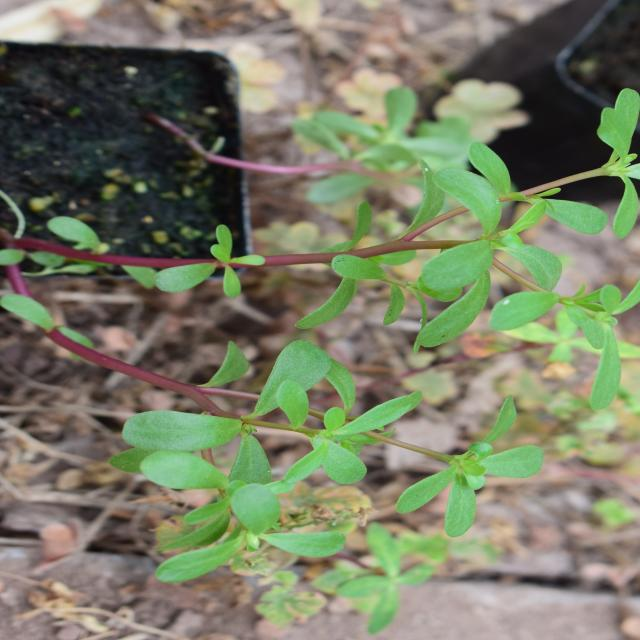purslane: (83, 1, 557, 553)
